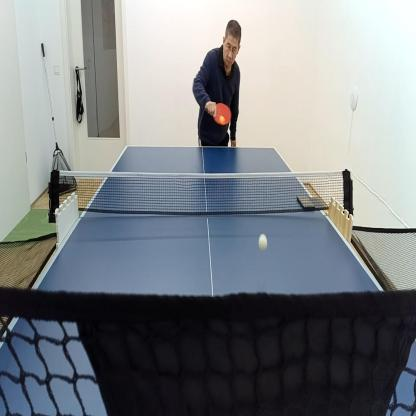Ball: (258, 235, 268, 252), (220, 115, 224, 125)
